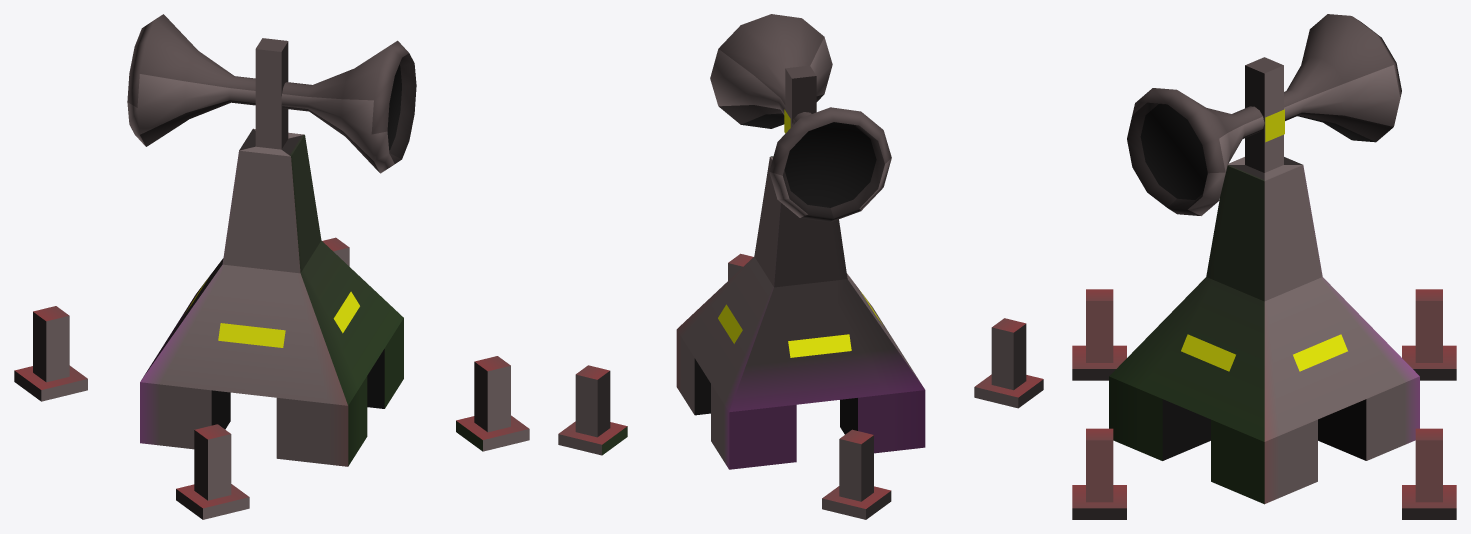
The model's file is CommTower.NoirEclipse.glb.
The picture shows the model from 3 angles, left to right: view 1: azimuth 30°, elevation 25°; view 2: azimuth 150°, elevation 25°; view 3: azimuth 270°, elevation 25°; orthographic projection. The views are drawn at different scales.
Parts seen in each view (by area): view 1: CommTower.NoirEclipse; view 2: CommTower.NoirEclipse; view 3: CommTower.NoirEclipse.
Boxes of the visible parts, x1=… form: CommTower.NoirEclipse: x1=14, y1=14, x2=529, y2=519; CommTower.NoirEclipse: x1=558, y1=14, x2=1043, y2=519; CommTower.NoirEclipse: x1=1072, y1=14, x2=1456, y2=519.
Size of the model in its own units: 2.8 by 3.1 by 2.8.
2 materials, 1 textured.
